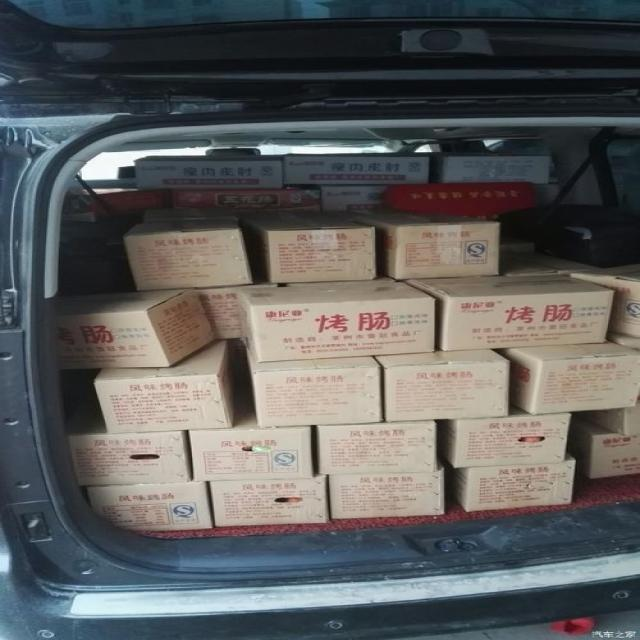box: (238, 277, 434, 361), (401, 274, 613, 351), (56, 288, 220, 370), (95, 339, 236, 434), (329, 209, 500, 279), (244, 345, 383, 429), (371, 347, 511, 422), (234, 209, 376, 282), (184, 402, 315, 480), (504, 344, 640, 413), (125, 219, 253, 291), (433, 406, 568, 468), (68, 429, 192, 488), (451, 453, 575, 511), (312, 419, 439, 475), (206, 475, 330, 529), (86, 480, 212, 531), (329, 469, 447, 522), (562, 262, 640, 339), (384, 182, 535, 217), (133, 155, 284, 189), (192, 283, 276, 339), (567, 418, 640, 478), (284, 155, 430, 184), (170, 183, 321, 209), (426, 155, 552, 183), (500, 250, 603, 275), (317, 183, 393, 209), (584, 406, 639, 436), (142, 206, 237, 220)
